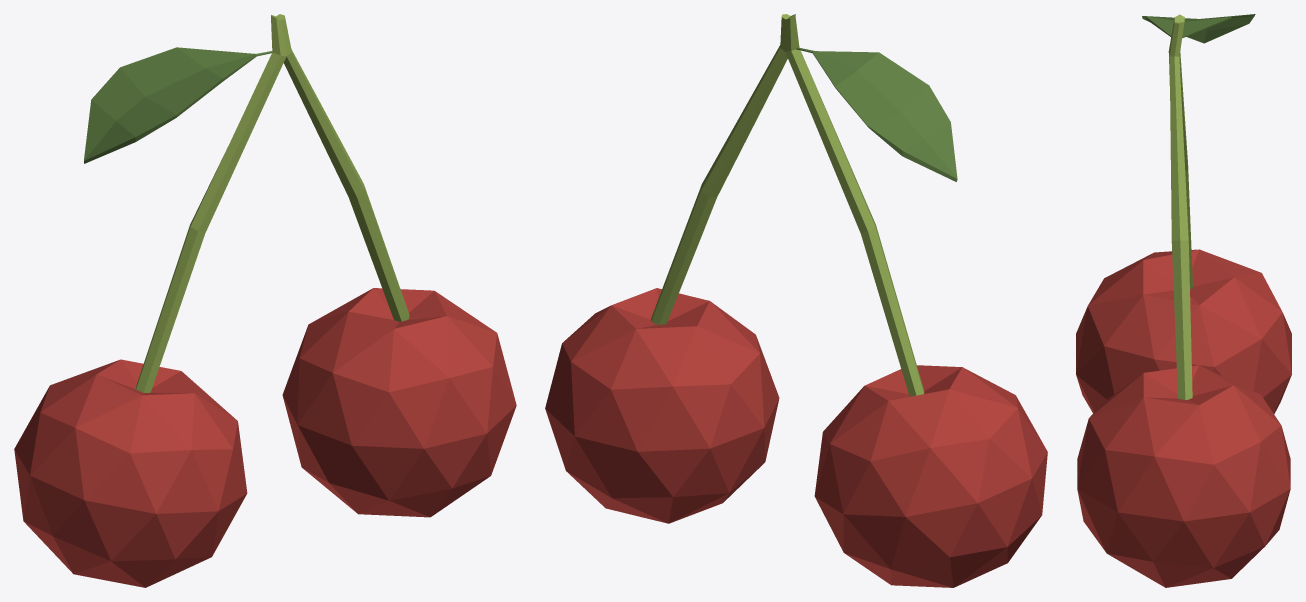
Rendered from Cherry_01.fbx.
The picture shows the model from 3 angles, left to right: view 1: azimuth 30°, elevation 25°; view 2: azimuth 150°, elevation 25°; view 3: azimuth 270°, elevation 25°; orthographic projection. The views are drawn at different scales.
Parts seen in each view (by area): view 1: Cherry_01; view 2: Cherry_01; view 3: Cherry_01.
Boxes of the visible parts, x1,y1,x2,y2 form: Cherry_01: (14,14,516,587); Cherry_01: (545,14,1047,587); Cherry_01: (1076,14,1291,587).
Size of the model in its own units: 11.81 by 12.53 by 4.91.
